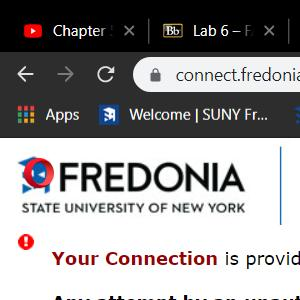opera: (24, 157, 54, 188)
